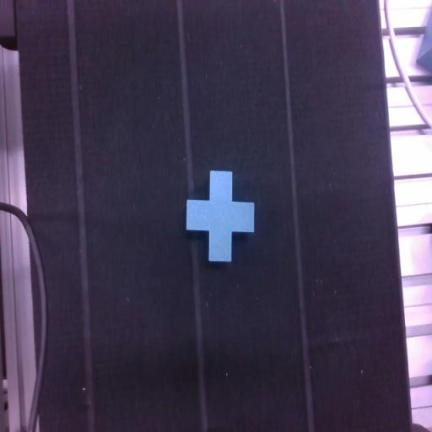cross: (187, 171, 253, 261)
